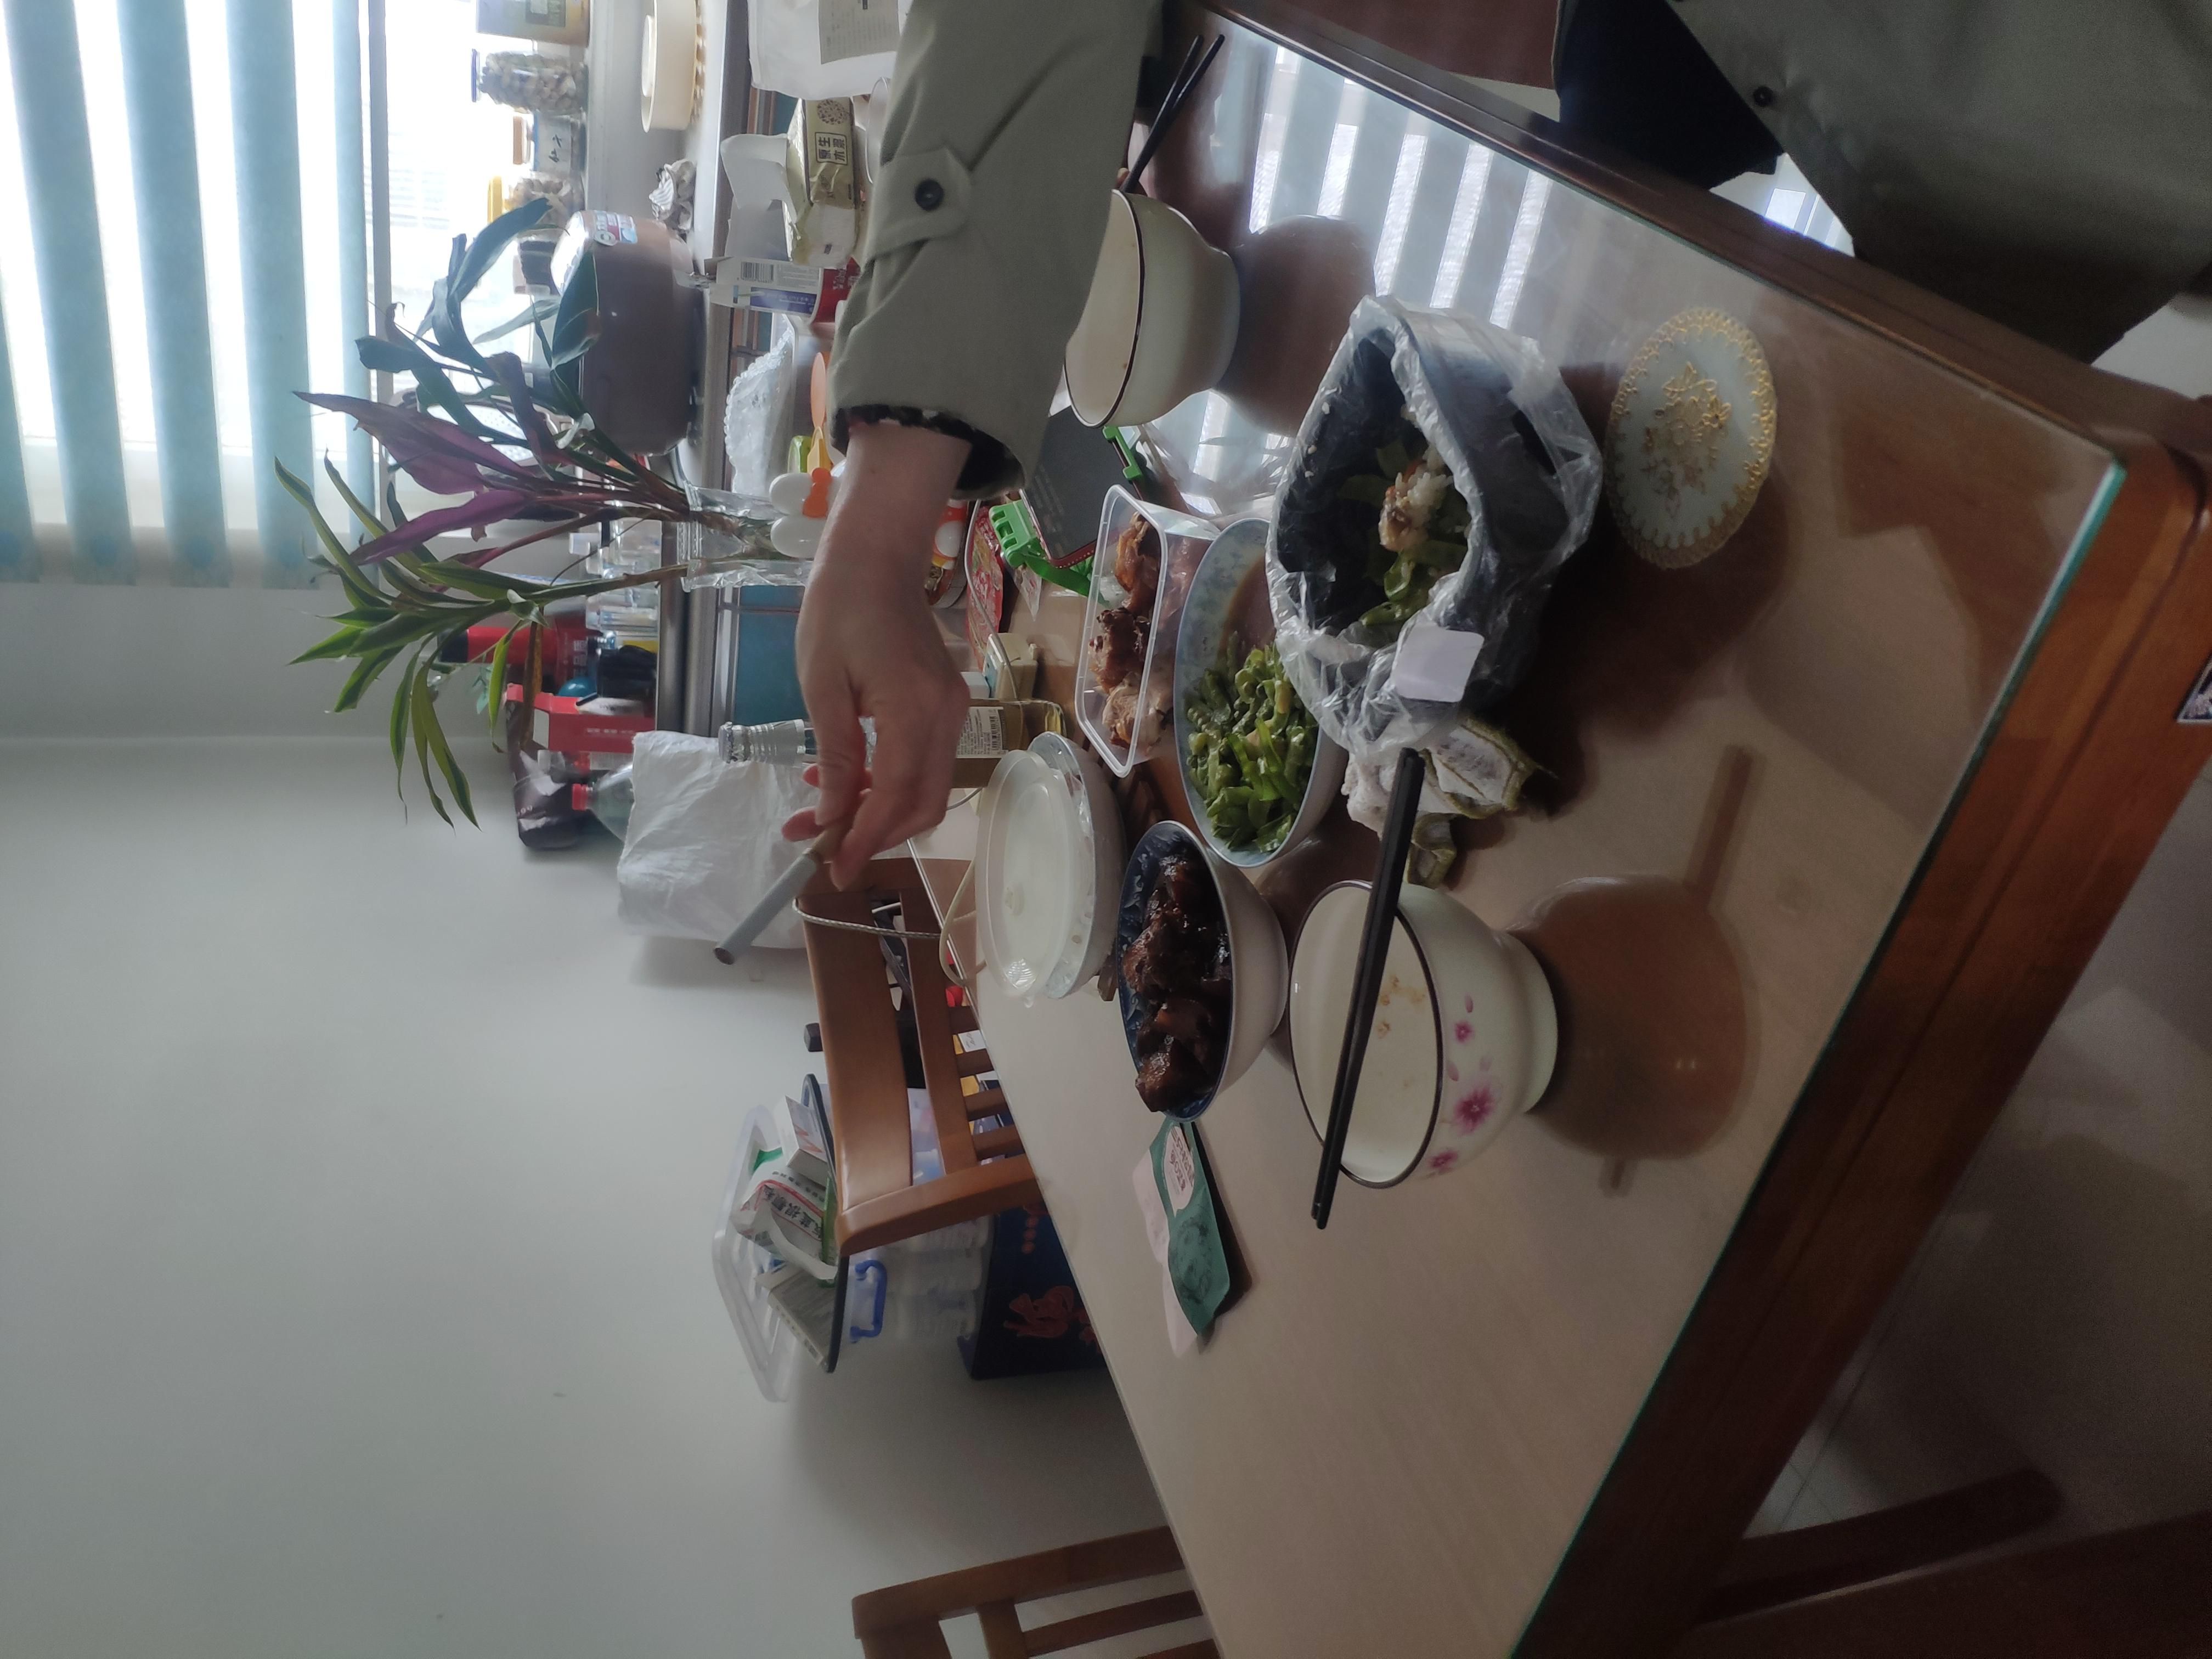smoke: (920, 535, 1134, 647)
